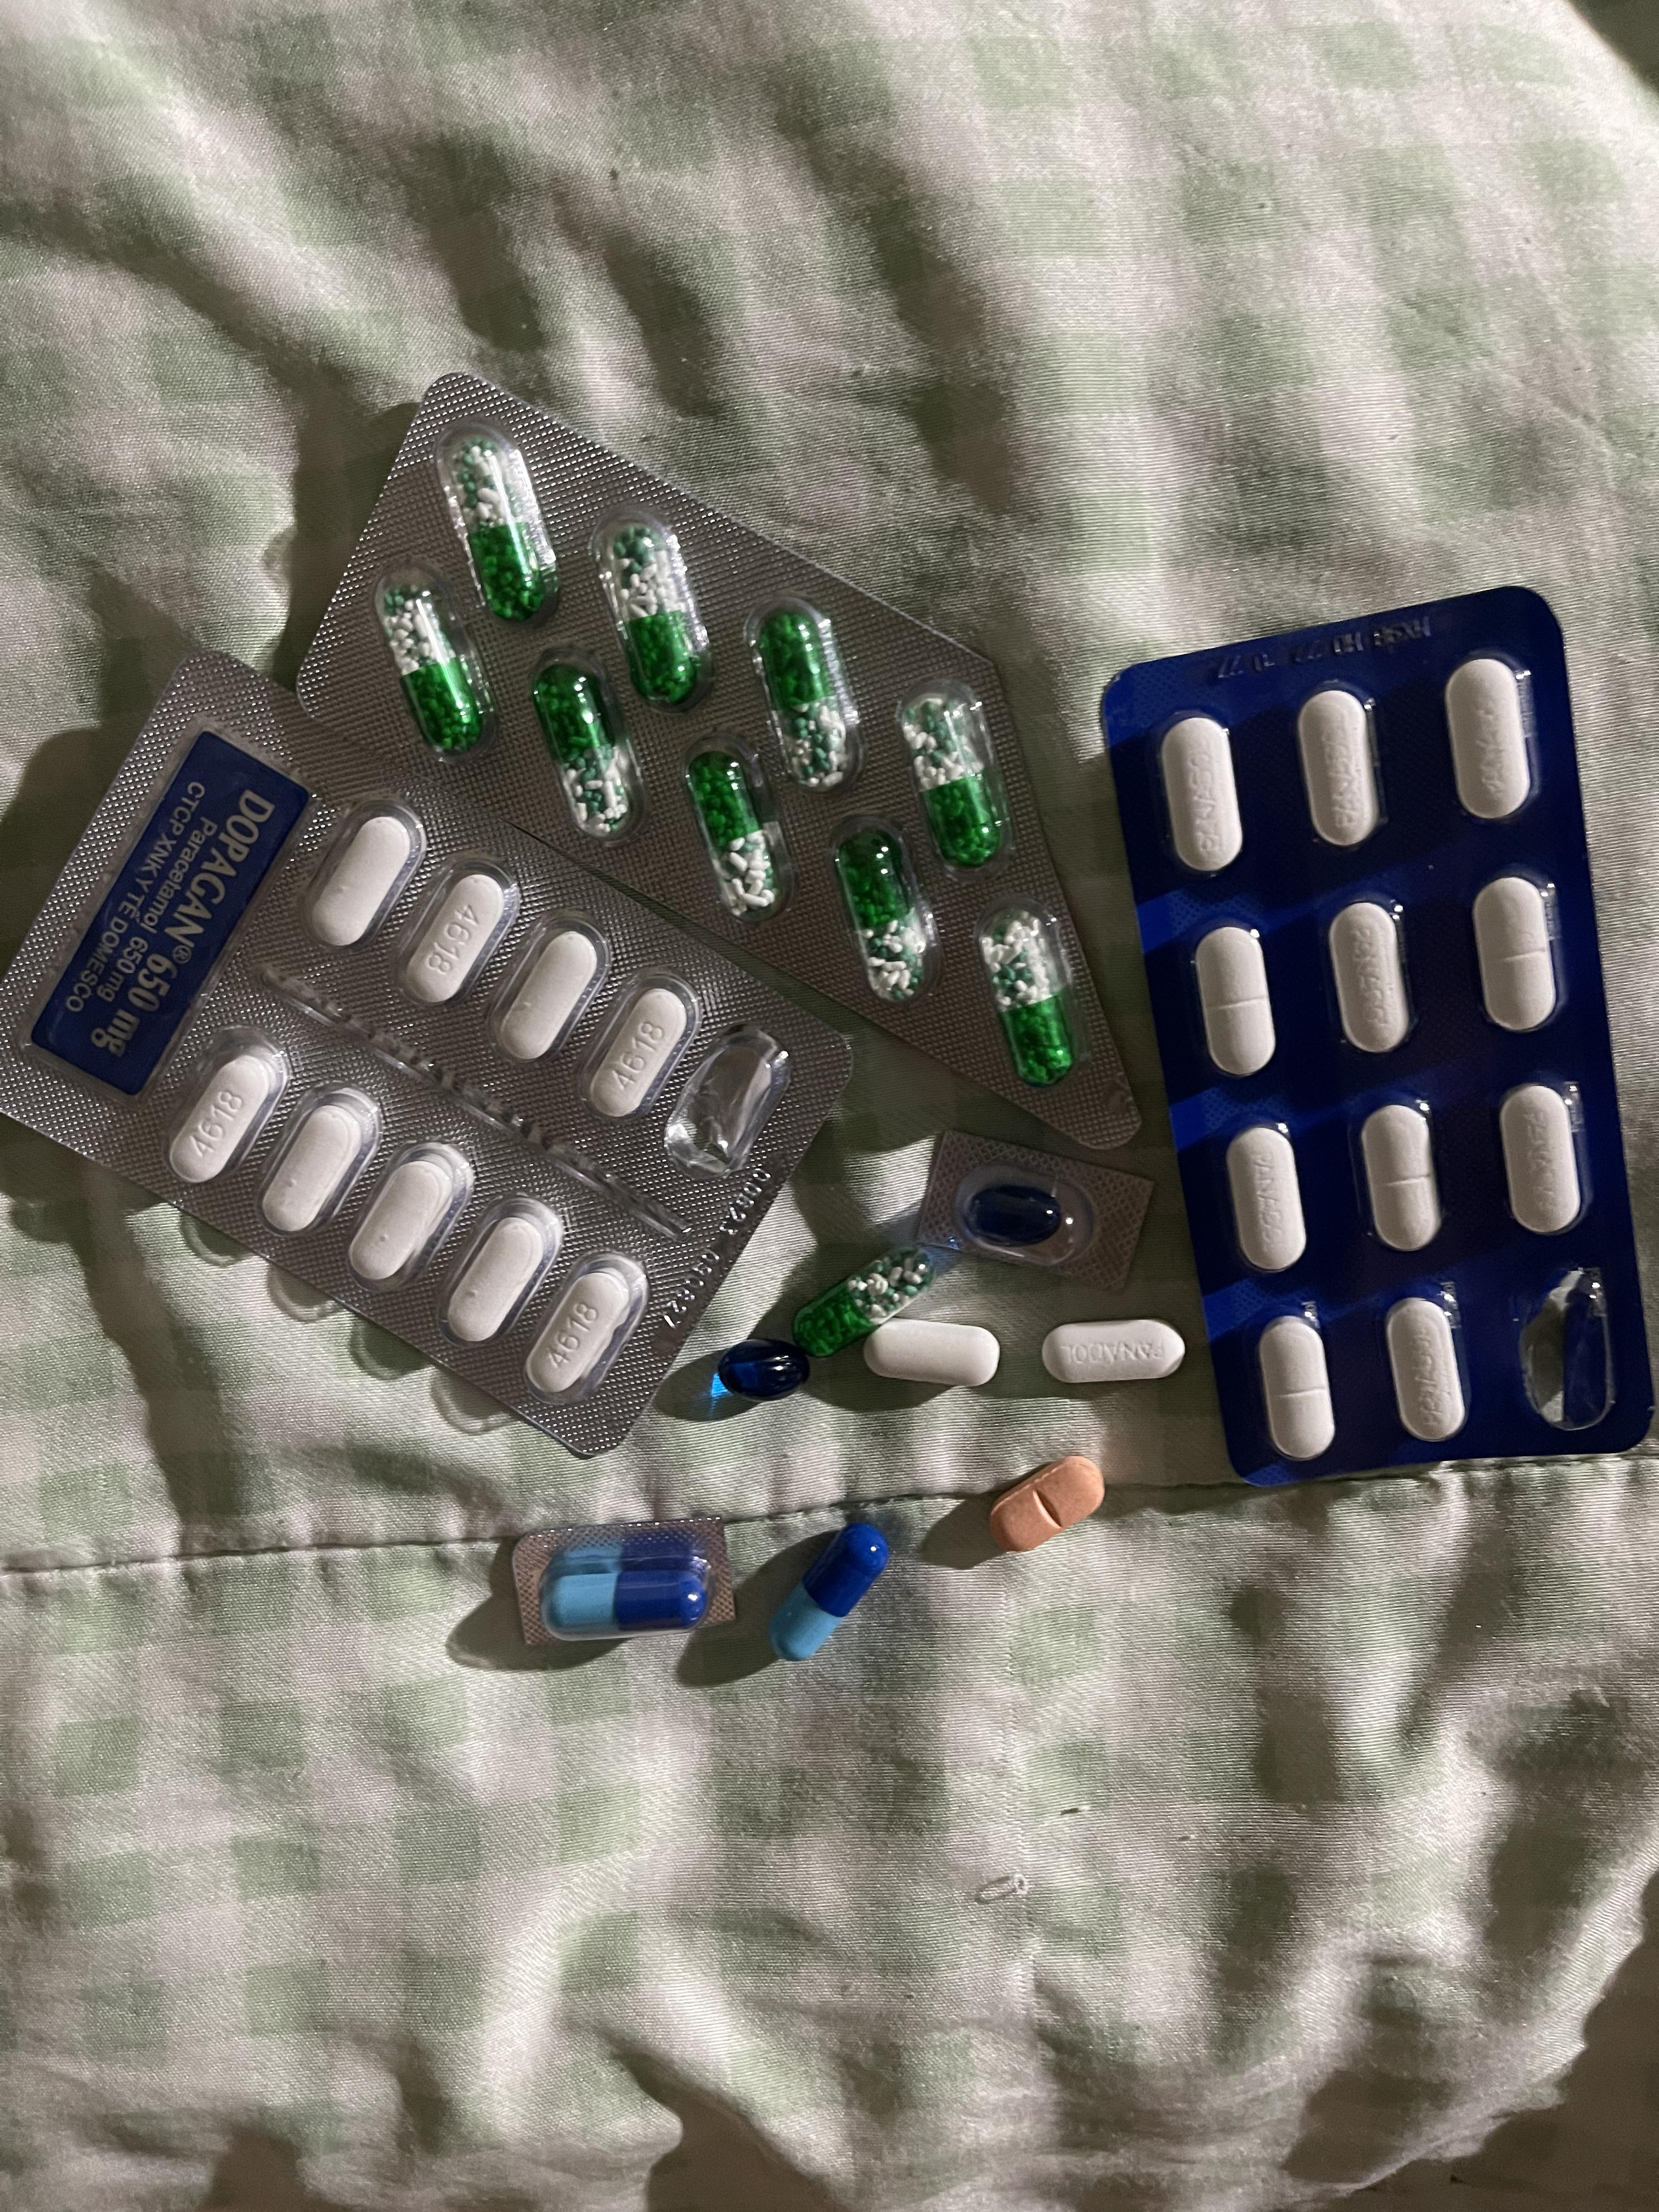Lincomyxin_500mg: (967, 1184, 1065, 1247), (713, 1338, 809, 1399)
Loratadine_10mg: (990, 1454, 1103, 1552)
Paracetamol_350mg: (1445, 657, 1535, 824), (1298, 690, 1385, 852), (1473, 876, 1561, 1031), (1157, 716, 1241, 878), (1328, 904, 1415, 1055), (1500, 1085, 1586, 1235), (1359, 1103, 1445, 1252), (1195, 927, 1276, 1078), (1385, 1298, 1466, 1444), (1227, 1127, 1307, 1271), (1258, 1318, 1333, 1460), (1042, 1317, 1180, 1385)
Paracetamol_500mg: (436, 1190, 565, 1346), (352, 1141, 476, 1298), (526, 1252, 652, 1404), (167, 1035, 291, 1188), (258, 1082, 380, 1237), (394, 857, 516, 1008), (490, 913, 608, 1066), (580, 970, 699, 1122), (312, 813, 415, 942), (863, 1320, 1006, 1386)
Paracetamol_650mg: (448, 439, 551, 622), (603, 524, 702, 709), (756, 608, 854, 794), (382, 582, 483, 751), (904, 691, 1000, 866), (793, 1245, 936, 1359), (533, 664, 631, 829), (835, 831, 929, 1000), (688, 756, 781, 921), (979, 914, 1073, 1076)
pill: (542, 1534, 711, 1639), (770, 1522, 889, 1663)
